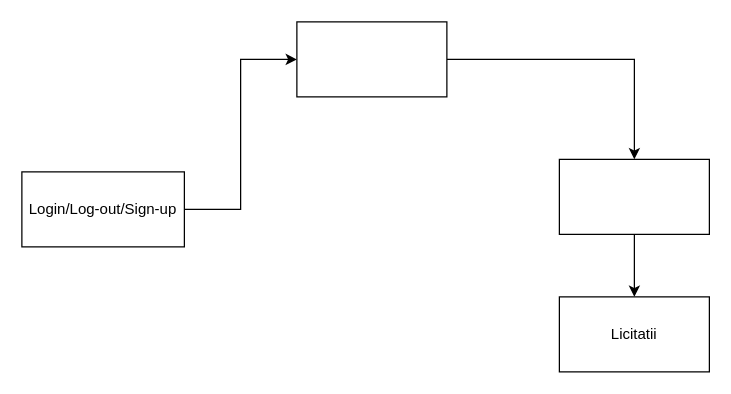
The diagram is 731 pixels wide and 394 high, and some of its shapes have lost their labels. Each missing label, with the centre of its shape:
"Obiecte" goes at point 633,196.
"User" goes at point 371,59.
